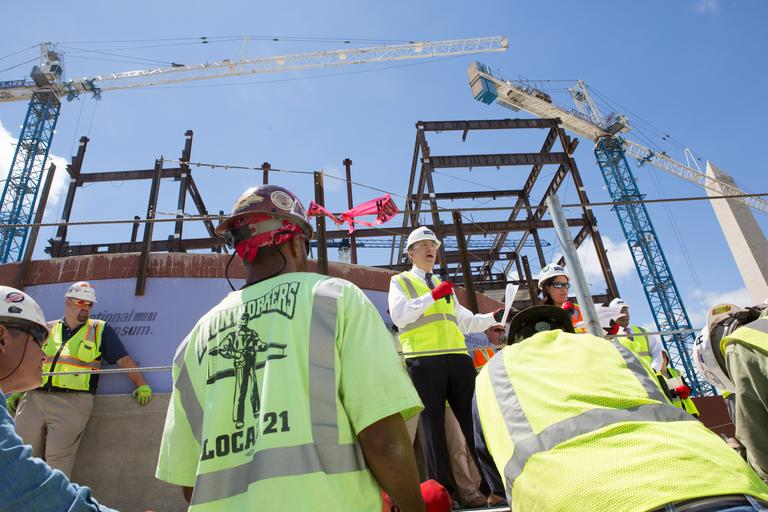Hard Hat: (214, 187, 314, 288), (690, 306, 760, 392), (2, 286, 45, 394), (505, 305, 577, 344), (406, 228, 442, 271), (538, 264, 570, 305), (65, 284, 98, 323)
Person: (157, 186, 426, 512), (477, 307, 768, 512), (392, 227, 504, 507), (25, 284, 151, 476), (23, 294, 116, 512), (689, 295, 768, 481), (606, 295, 665, 379), (535, 263, 587, 333), (660, 347, 700, 419)
Vest: (473, 306, 766, 512), (387, 243, 472, 359), (38, 293, 106, 393), (614, 307, 653, 372), (662, 349, 697, 415)
